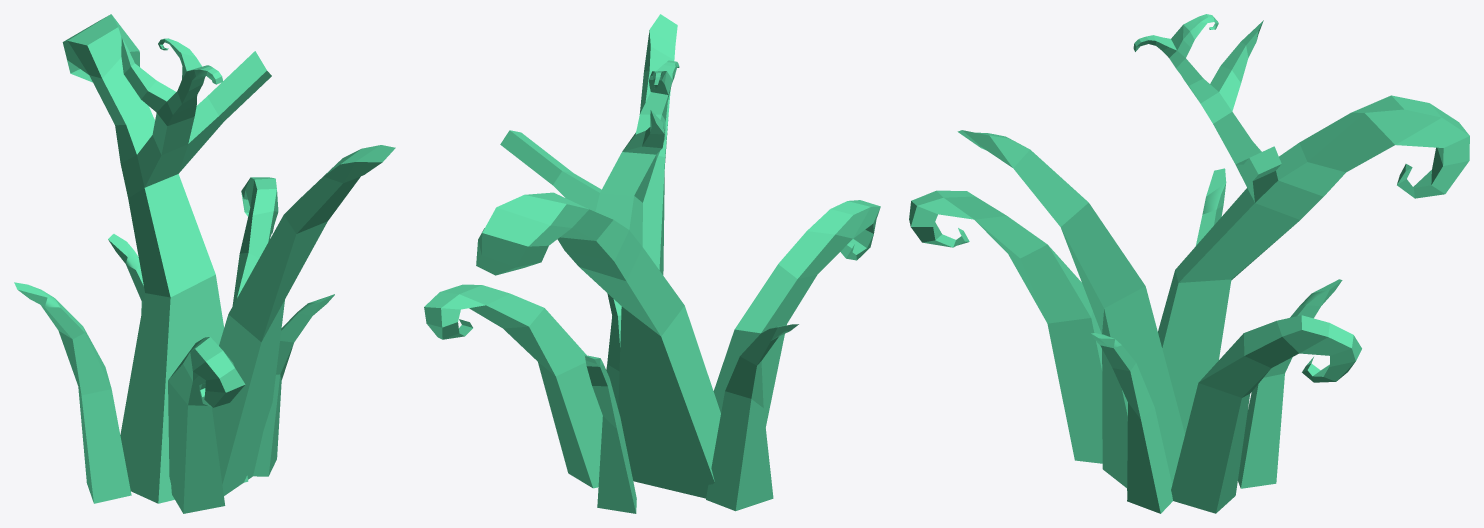
The model's file is Grass_2.glb.
3 views of the same model, side by side, from view 1: azimuth 30°, elevation 25°; view 2: azimuth 150°, elevation 25°; view 3: azimuth 270°, elevation 25° (orthographic). The views are drawn at different scales.
Visible parts, largest first — view 1: Grass_2; view 2: Grass_2; view 3: Grass_2.
Part boxes in pixels (left/top/right/bottom): Grass_2: left=14, top=14, right=395, bottom=513; Grass_2: left=424, top=14, right=880, bottom=513; Grass_2: left=909, top=14, right=1469, bottom=513.
Bounding box in the file's own units: 1.72 × 2.2 × 2.47.
Materials: 1 (1 with a texture image).
